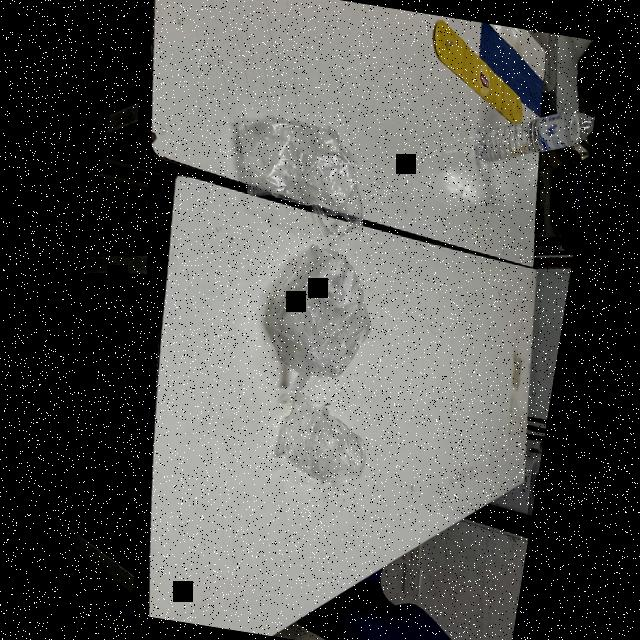plastic_bag: (213, 102, 398, 245), (250, 232, 392, 408)
scrap_plastic: (265, 386, 386, 503)
